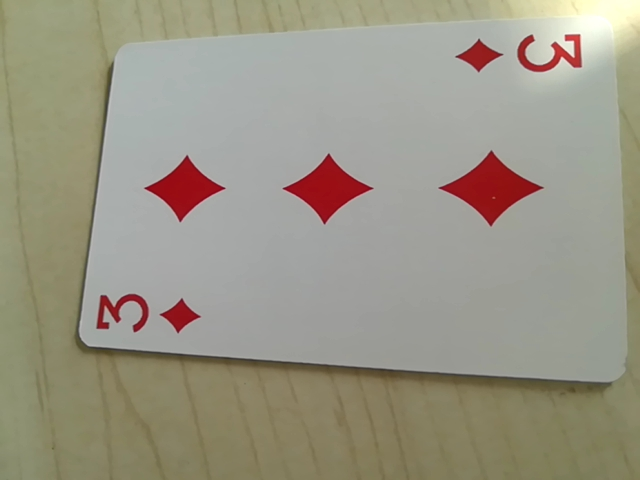fk 3: (460, 24, 590, 82), (90, 281, 203, 345)
